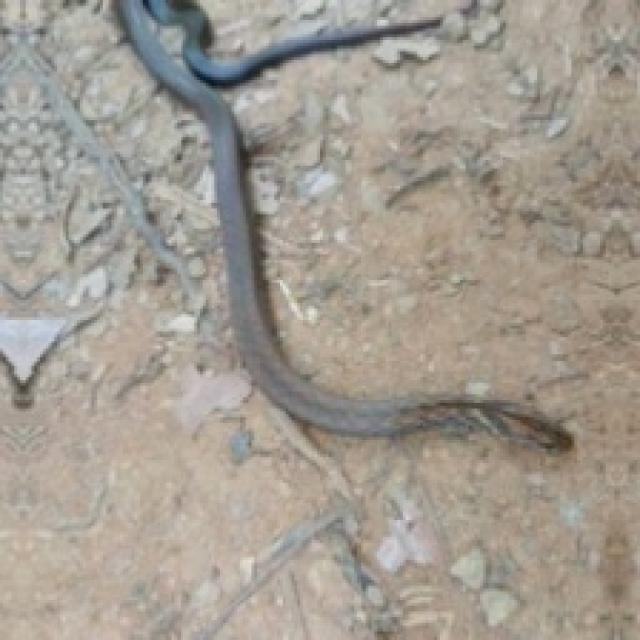reinhardts lined snake: (117, 0, 571, 449)
